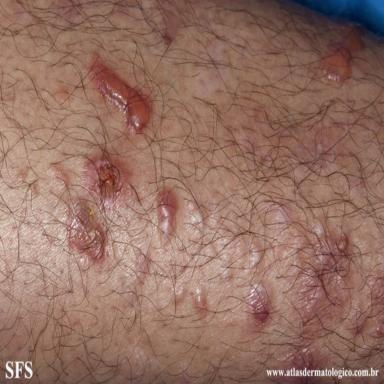Epidermolysis-Bullosa-Pruriginosa: (291, 228, 349, 367), (89, 58, 151, 134), (318, 27, 364, 87), (68, 200, 107, 261), (84, 155, 130, 206), (121, 253, 149, 306), (157, 190, 178, 238), (247, 283, 271, 322), (191, 285, 209, 318), (185, 198, 203, 225)
